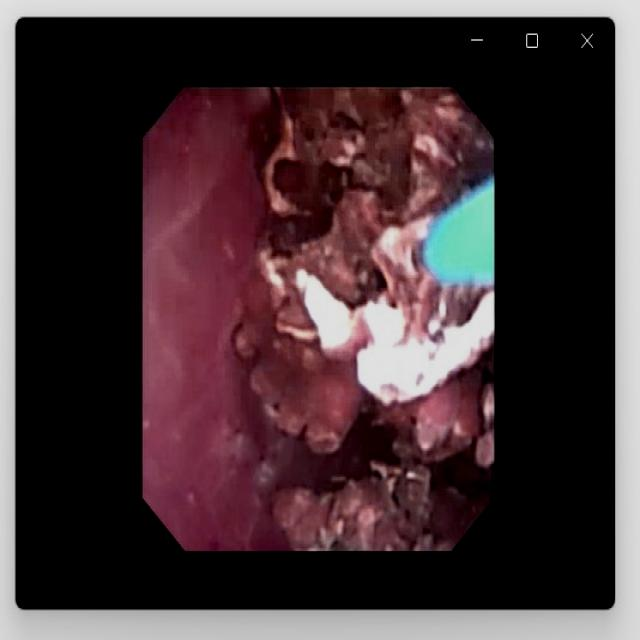fiber: (432, 192, 492, 279)
stone: (238, 96, 487, 544)
